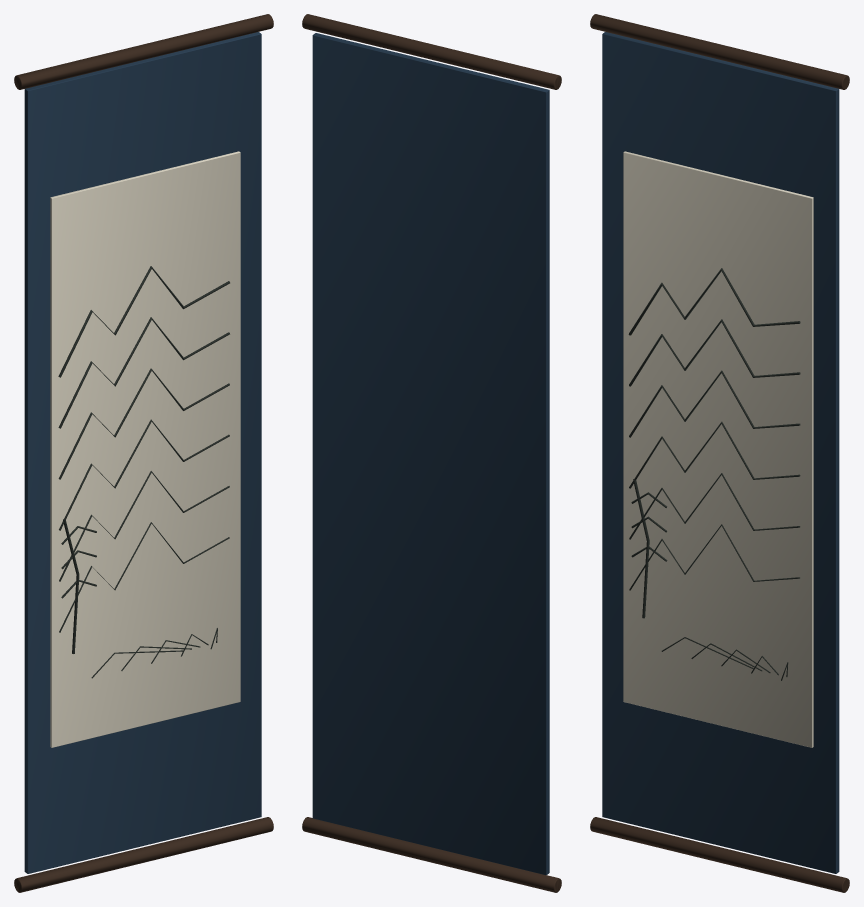
Rendered from kominka-kakejiku-01.glb.
The picture shows the model from 3 angles, left to right: view 1: azimuth 30°, elevation 25°; view 2: azimuth 150°, elevation 25°; view 3: azimuth 330°, elevation 25°; orthographic projection.
Visible parts, largest first — view 1: kominka-kakejiku-01; view 2: kominka-kakejiku-01; view 3: kominka-kakejiku-01.
Boxes of the visible parts, box(x1,y1,x2,y2) form: kominka-kakejiku-01: box(14, 14, 273, 892); kominka-kakejiku-01: box(302, 14, 561, 892); kominka-kakejiku-01: box(590, 14, 849, 892).
Size of the model in its own units: 0.55 by 1.7 by 0.03.
